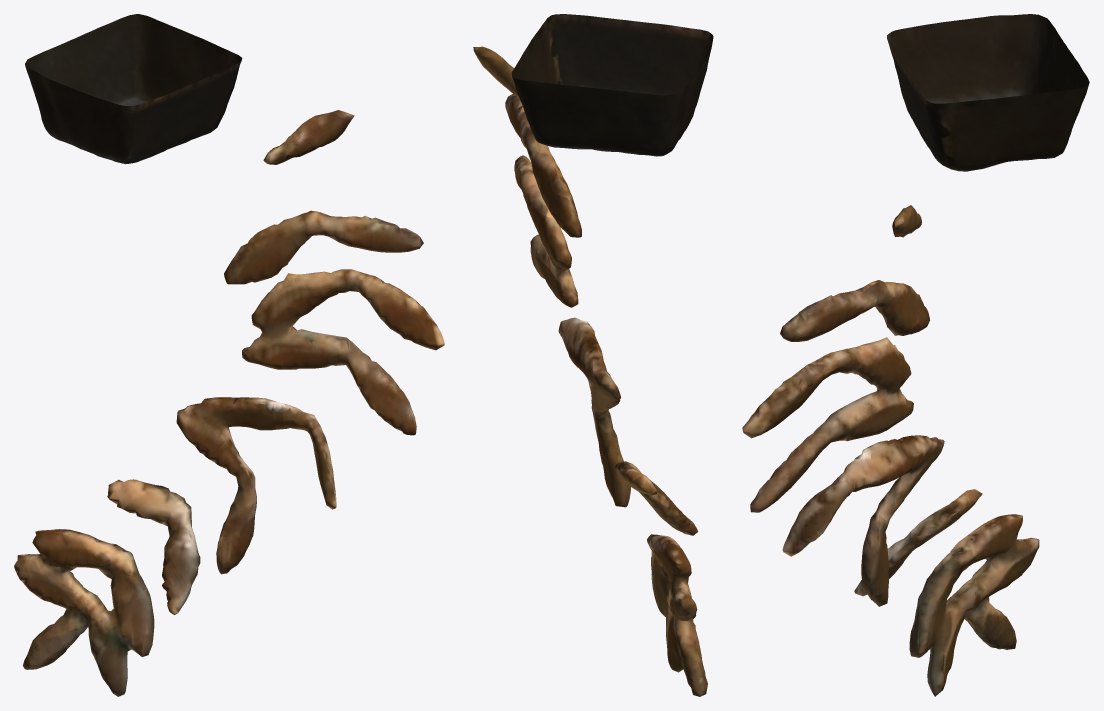
Rendered from lauriers.obj.
3 renders of one model, left to right at view 1: azimuth 30°, elevation 25°; view 2: azimuth 150°, elevation 25°; view 3: azimuth 270°, elevation 25°, orthographic. The views are drawn at different scales.
Size of the model in its own units: 0.1402 by 0.2721 by 0.1305.
